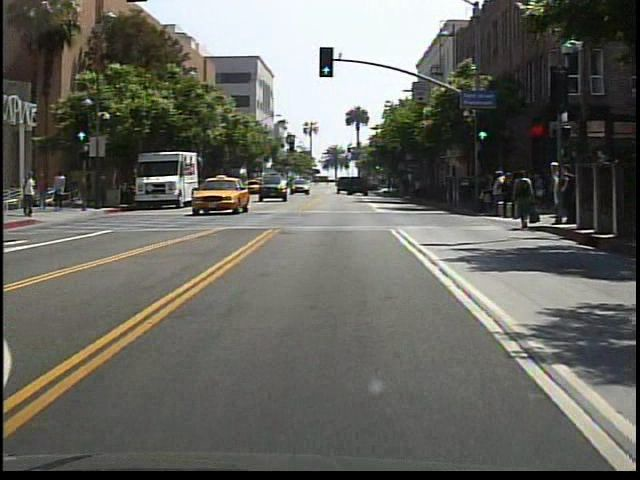person: (510, 167, 537, 231), (23, 168, 42, 220), (53, 167, 71, 214), (39, 171, 55, 212), (98, 170, 114, 209), (85, 170, 97, 208)
